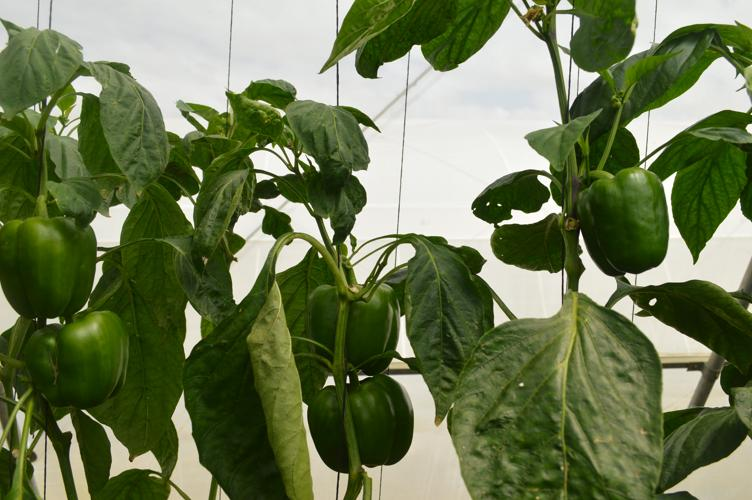BellPepper: (310, 379, 416, 474), (25, 314, 131, 407), (582, 167, 670, 277), (4, 217, 98, 316), (310, 282, 400, 377)
